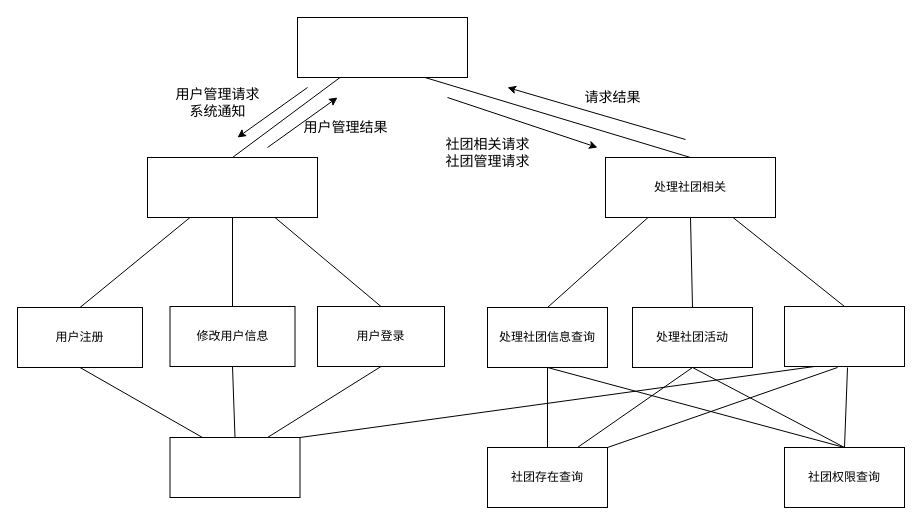
Image size: 922x525. Some labels were removed from this diagram. The shapes that lost their labels are listed below. From the top down, each one's centre as x and y in pixels, then its label:
At (x=382, y=47): "社团管理系统".
At (x=232, y=187): "处理用户管理".
At (x=844, y=336): "处理社团成员".
At (x=234, y=467): "用户查询".
